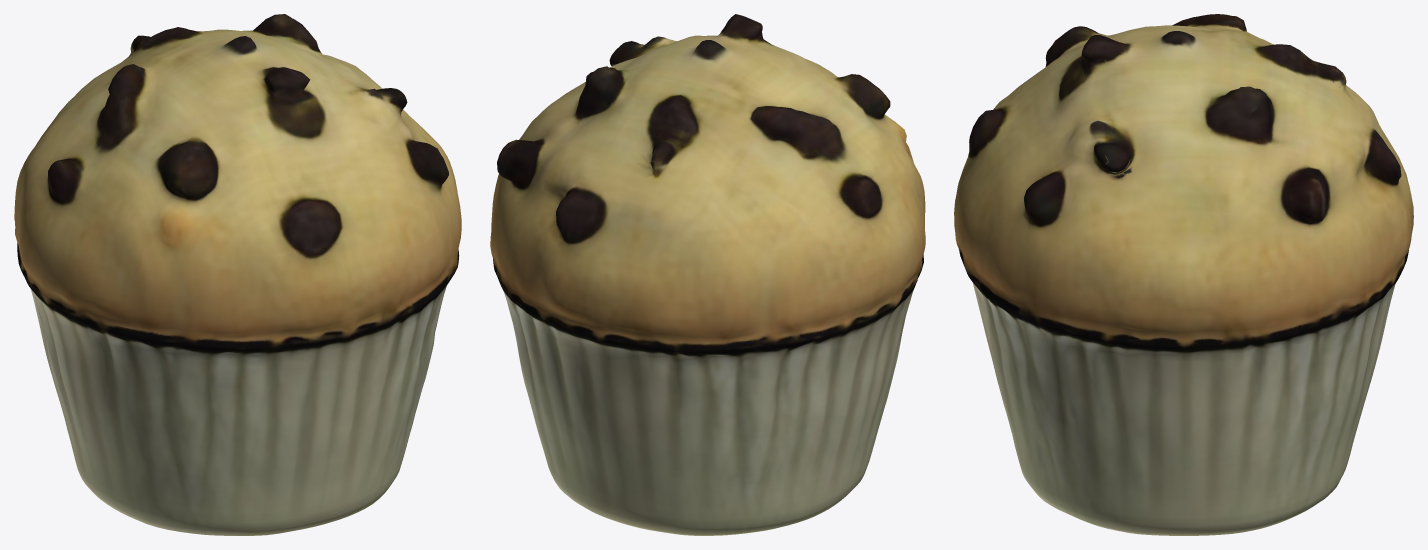
The model's file is VainillasChipsMuffin.glb.
3 renders of one model, left to right at view 1: azimuth 30°, elevation 25°; view 2: azimuth 150°, elevation 25°; view 3: azimuth 270°, elevation 25°, orthographic. The views are drawn at different scales.
Parts seen in each view (by area): view 1: mesh; view 2: mesh; view 3: mesh.
Boxes of the visible parts, x1,y1,x2,y2 form: mesh: (14, 14, 461, 535); mesh: (490, 14, 925, 535); mesh: (954, 14, 1413, 535).
Bounding box in the file's own units: 0.9283 × 0.9994 × 0.9282.
Materials: 1 (1 with a texture image).
